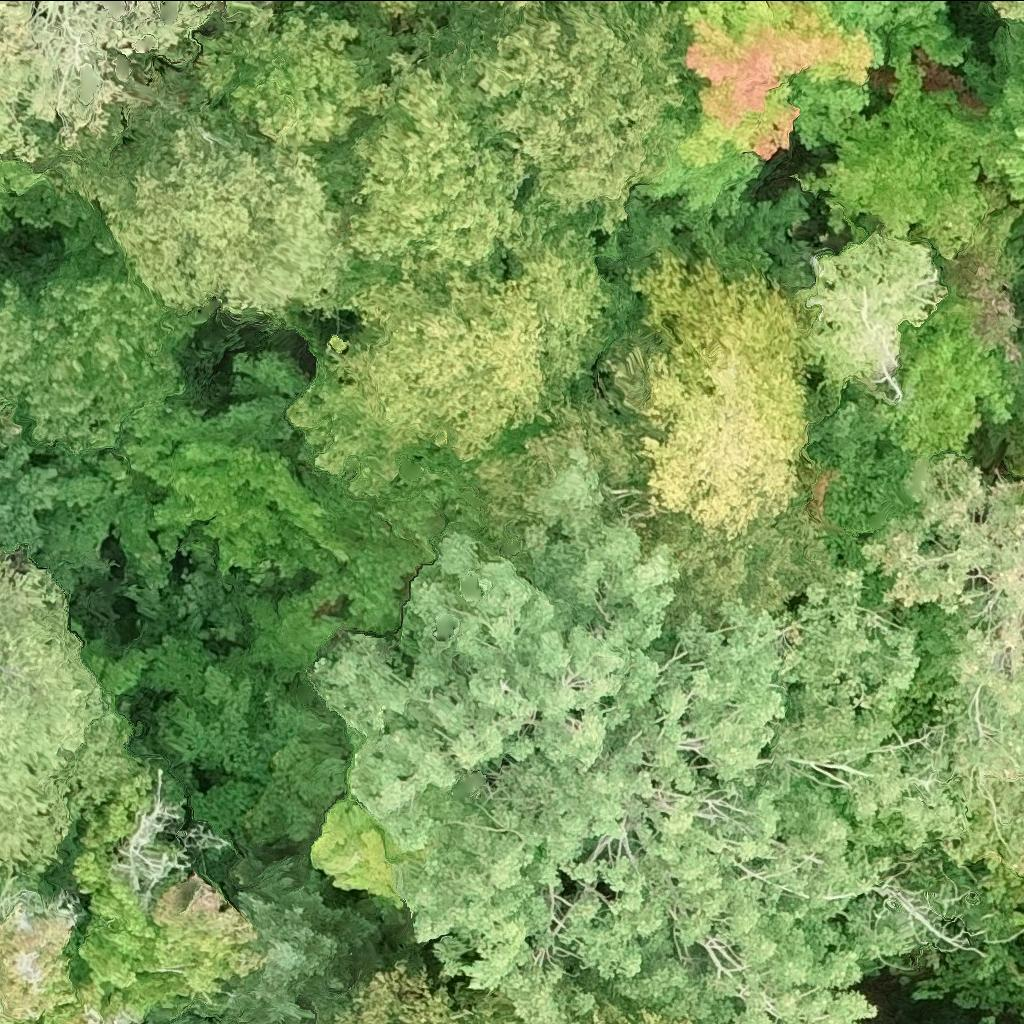crown: (316, 434, 954, 1023), (640, 0, 969, 228), (863, 458, 1023, 872), (324, 239, 607, 464), (97, 119, 354, 315), (642, 248, 810, 536), (477, 0, 685, 230), (792, 46, 1007, 262), (0, 558, 144, 873), (116, 396, 355, 580), (342, 49, 531, 281), (0, 271, 190, 454), (0, 0, 215, 161), (799, 232, 948, 416), (76, 880, 262, 1023), (237, 855, 377, 1016), (274, 530, 435, 648), (330, 965, 534, 1023), (311, 792, 400, 905), (0, 893, 75, 1023), (0, 157, 96, 233), (977, 73, 1023, 200), (571, 986, 722, 1023), (0, 455, 58, 550), (8, 986, 96, 1023), (173, 999, 219, 1023), (991, 0, 1023, 22), (1004, 911, 1023, 932), (88, 1011, 106, 1023), (112, 1013, 129, 1023), (1020, 975, 1023, 987), (1021, 62, 1023, 73), (236, 1023, 241, 1023)
